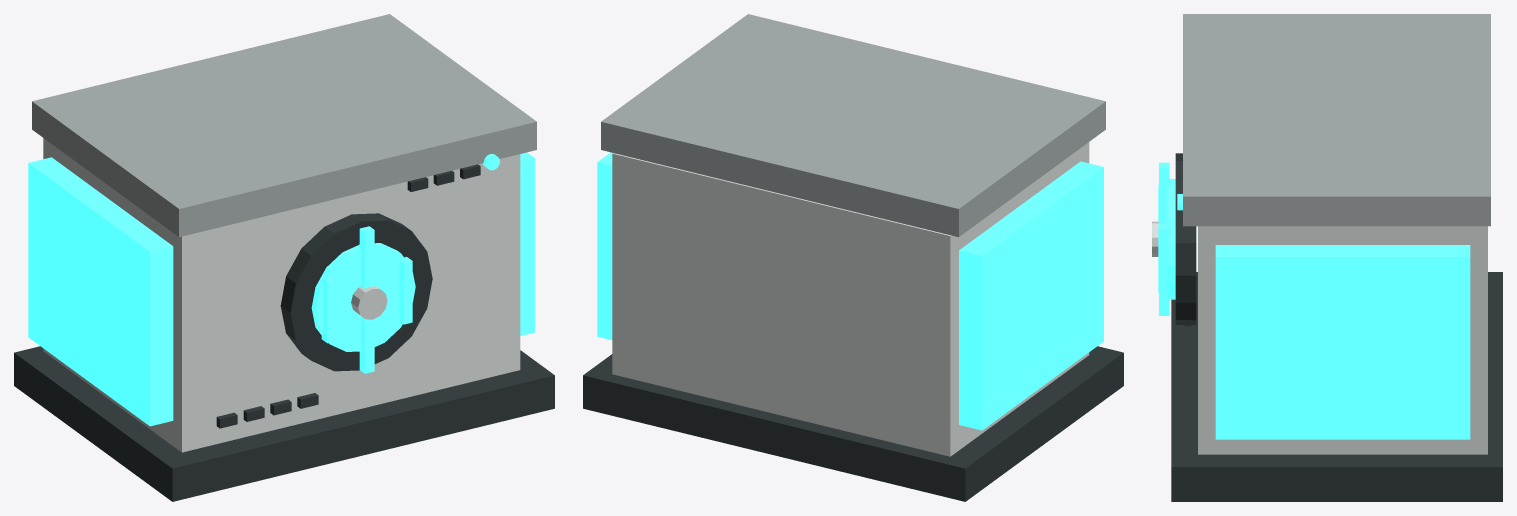
File: air_recycler_unit.glb
The picture shows the model from 3 angles, left to right: view 1: azimuth 30°, elevation 25°; view 2: azimuth 150°, elevation 25°; view 3: azimuth 270°, elevation 25°; orthographic projection. The views are drawn at different scales.
Parts seen in each view (by area): view 1: air_recycler_top_cap, air_recycler_body, air_recycler_left_side, air_recycler_base, air_recycler_fan_outer, air_recycler_fan_inner, air_recycler_right_side, air_recycler_fan_hub, air_recycler_fan_blade_0, air_recycler_fan_blade_1, air_recycler_fan_blade_2, air_recycler_fan_blade_3; view 2: air_recycler_body, air_recycler_top_cap, air_recycler_left_side, air_recycler_base, air_recycler_right_side; view 3: air_recycler_top_cap, air_recycler_right_side, air_recycler_base, air_recycler_body, air_recycler_fan_outer, air_recycler_fan_inner, air_recycler_fan_blade_0, air_recycler_fan_blade_1.
Boxes of the visible parts, x1=… form: air_recycler_top_cap: x1=32, y1=14, x2=536, y2=237; air_recycler_body: x1=43, y1=138, x2=520, y2=452; air_recycler_left_side: x1=28, y1=157, x2=173, y2=426; air_recycler_base: x1=14, y1=346, x2=554, y2=501; air_recycler_fan_outer: x1=280, y1=213, x2=432, y2=371; air_recycler_fan_inner: x1=311, y1=243, x2=415, y2=351; air_recycler_right_side: x1=520, y1=152, x2=534, y2=335; air_recycler_fan_hub: x1=351, y1=285, x2=387, y2=319; air_recycler_fan_blade_0: x1=399, y1=257, x2=412, y2=324; air_recycler_fan_blade_1: x1=359, y1=226, x2=374, y2=288; air_recycler_fan_blade_2: x1=321, y1=276, x2=335, y2=343; air_recycler_fan_blade_3: x1=359, y1=316, x2=374, y2=373; air_recycler_body: x1=612, y1=142, x2=1089, y2=456; air_recycler_top_cap: x1=601, y1=14, x2=1105, y2=237; air_recycler_left_side: x1=959, y1=161, x2=1103, y2=430; air_recycler_base: x1=583, y1=346, x2=1123, y2=501; air_recycler_right_side: x1=597, y1=152, x2=612, y2=339; air_recycler_top_cap: x1=1183, y1=14, x2=1490, y2=226; air_recycler_right_side: x1=1215, y1=245, x2=1470, y2=439; air_recycler_base: x1=1171, y1=272, x2=1502, y2=501; air_recycler_body: x1=1198, y1=226, x2=1487, y2=454; air_recycler_fan_outer: x1=1175, y1=153, x2=1196, y2=324; air_recycler_fan_inner: x1=1167, y1=179, x2=1175, y2=299; air_recycler_fan_blade_0: x1=1158, y1=224, x2=1169, y2=293; air_recycler_fan_blade_1: x1=1159, y1=162, x2=1169, y2=224.
Bounding box in the file's own units: 0.785 × 0.557 × 0.5925.
